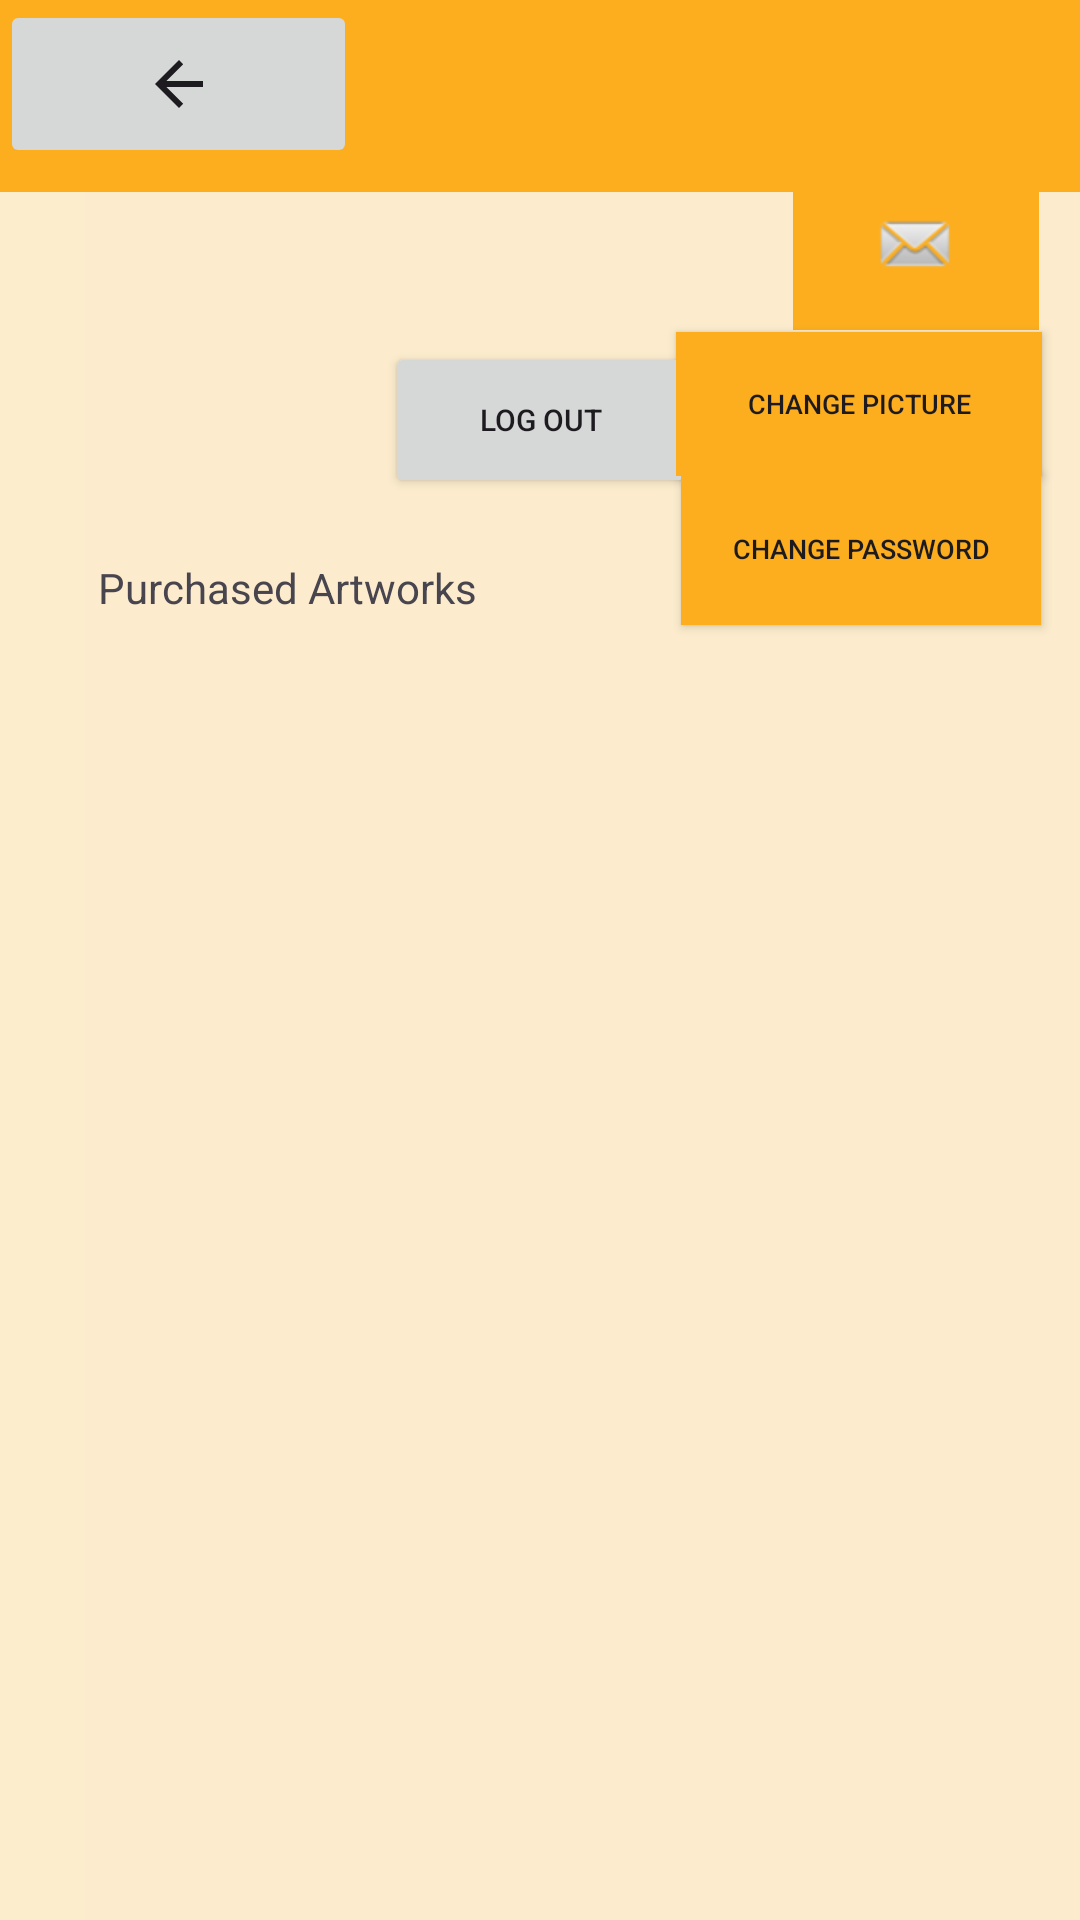

Screen size 1080px×1920px. Icon name, then its center in pixels as (x=x, y=y):
sym action email: (x=915, y=244)
